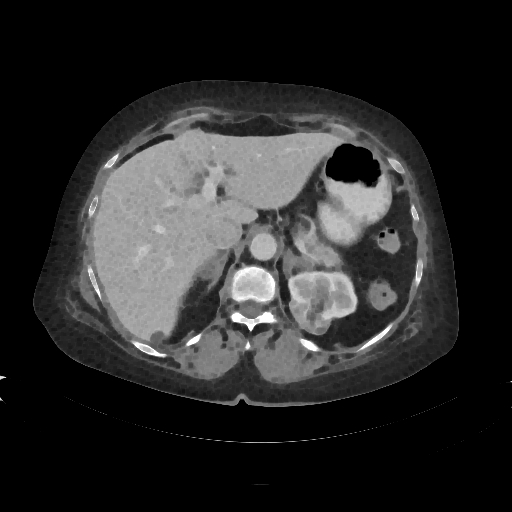Lesion: (287, 294, 332, 341)
